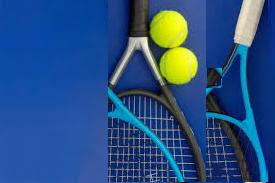tennis ball: (118, 98, 156, 135), (128, 135, 166, 172)
tennis racket: (132, 0, 267, 182), (109, 0, 206, 182), (138, 0, 250, 63), (202, 69, 222, 87)
